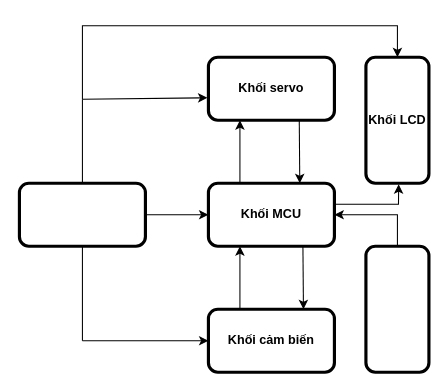
This 448x392 diagram has some shape labels left out. The centre of each missing label's shape, as x and y in pixels:
"Công tắc" goes at point 397,308.
"Khối nguồn" goes at point 81,214.
